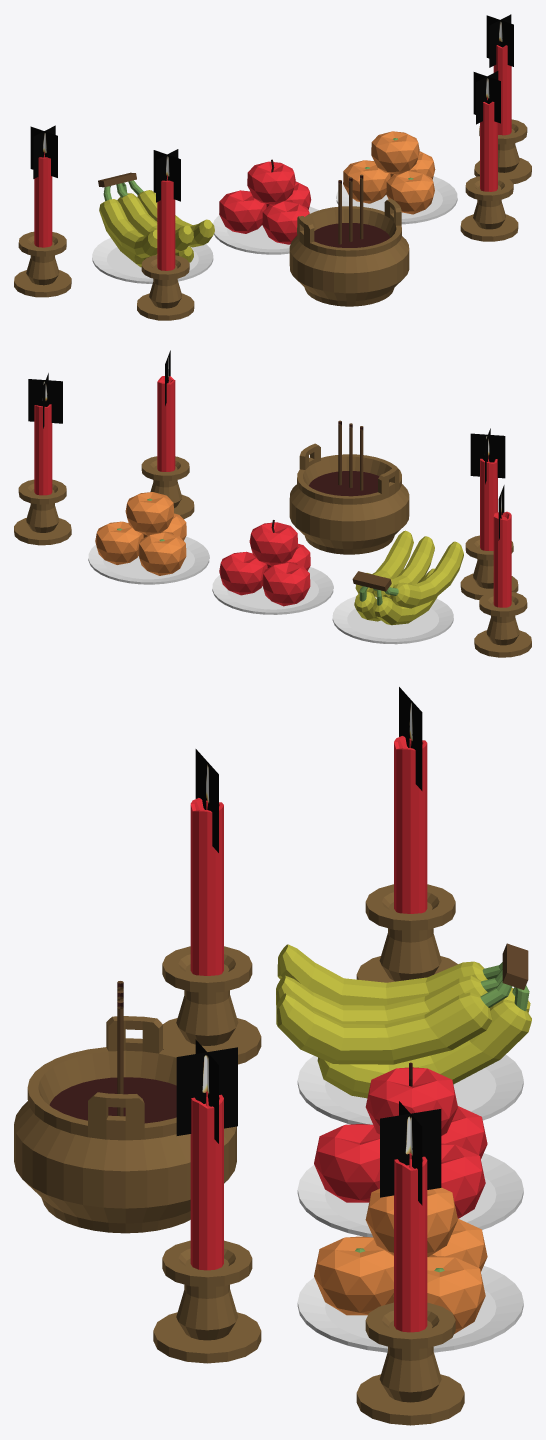
Rendered from tribute.fbx.
3 renders of one model, top to bottom at view 1: azimuth 30°, elevation 25°; view 2: azimuth 150°, elevation 25°; view 3: azimuth 270°, elevation 25°, orthographic. The views are drawn at different scales.
Parts seen in each view (by area): view 1: Cylinder.085, Cylinder.175, Cylinder.057, Cylinder.062, Icosphere.007, Cylinder.056, Cylinder.174, flame-removebg-preview.003, flame-removebg-preview.001, flame-removebg-preview.005, flame-removebg-preview.007, flame-removebg-preview.002 (+3 smaller); view 2: Cylinder.085, Cylinder.057, Cylinder.062, Icosphere.007, Cylinder.056, Cylinder.175, flame-removebg-preview.004, flame-removebg-preview.002, Cylinder.174; view 3: Cylinder.057, Cylinder.085, Cylinder.175, Cylinder.062, Icosphere.007, Cylinder.056, flame-removebg-preview.003, flame-removebg-preview.007, flame-removebg-preview, flame-removebg-preview.004, flame-removebg-preview.002, Cylinder.174 (+1 smaller).
Boxes of the visible parts, x1,y1,x2,y2 form: Cylinder.085: (289,198,409,306); Cylinder.175: (137,97,518,320); Cylinder.057: (92,172,214,283); Cylinder.062: (14,45,531,297); Icosphere.007: (336,131,457,224); Cylinder.056: (213,159,318,254); Cylinder.174: (338,174,363,244); flame-removebg-preview.003: (486,15,513,66); flame-removebg-preview.001: (30,126,57,177); flame-removebg-preview.005: (153,150,180,201); flame-removebg-preview.007: (473,72,500,123); flame-removebg-preview.002: (489,14,511,67); Cylinder.085: (289,443,409,554); Cylinder.057: (332,530,463,644); Cylinder.062: (14,404,531,657); Icosphere.007: (88,492,209,584); Cylinder.056: (212,520,333,614); Cylinder.175: (141,376,518,599); flame-removebg-preview.004: (470,433,505,478); flame-removebg-preview.002: (28,379,62,423); Cylinder.174: (338,420,363,490); Cylinder.057: (276,943,531,1124); Cylinder.085: (14,1016,236,1233); Cylinder.175: (153,798,261,1363); Cylinder.062: (356,736,464,1425); Icosphere.007: (297,1187,523,1352); Cylinder.056: (297,1062,523,1237); flame-removebg-preview.003: (380,1109,441,1197); flame-removebg-preview.007: (176,1047,237,1135); flame-removebg-preview: (399,687,422,790); flame-removebg-preview.004: (195,749,218,852); flame-removebg-preview.002: (399,1101,422,1205); Cylinder.174: (117,981,123,1116).
Bounding box in the file's own units: 180 × 52.93 × 84.75.
